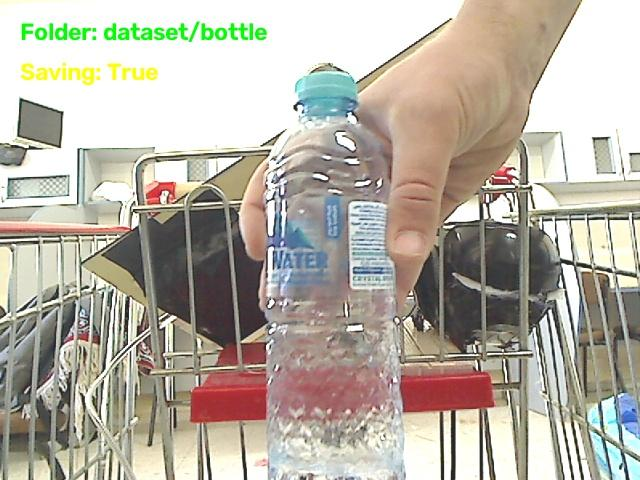Bottle: (264, 67, 403, 478)
